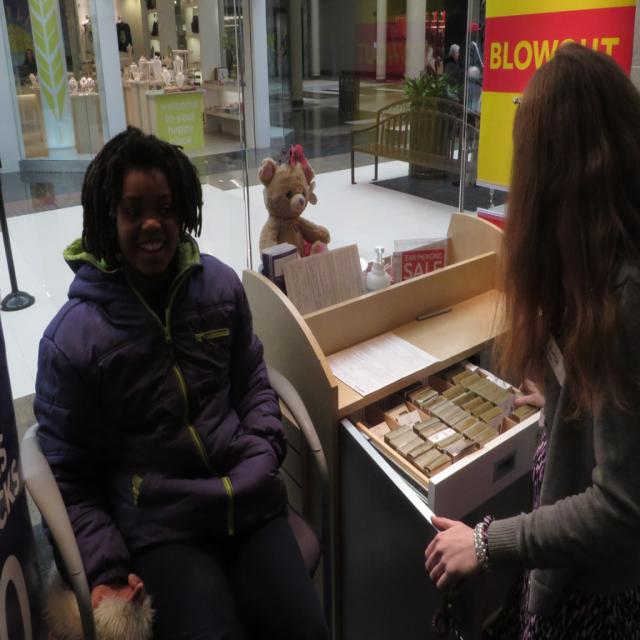Table: (281, 284, 547, 639)
